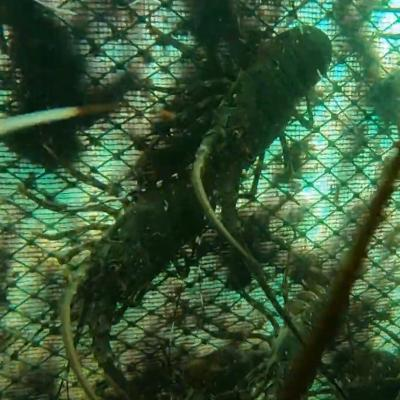lobster: (213, 27, 329, 178), (86, 185, 180, 320)
